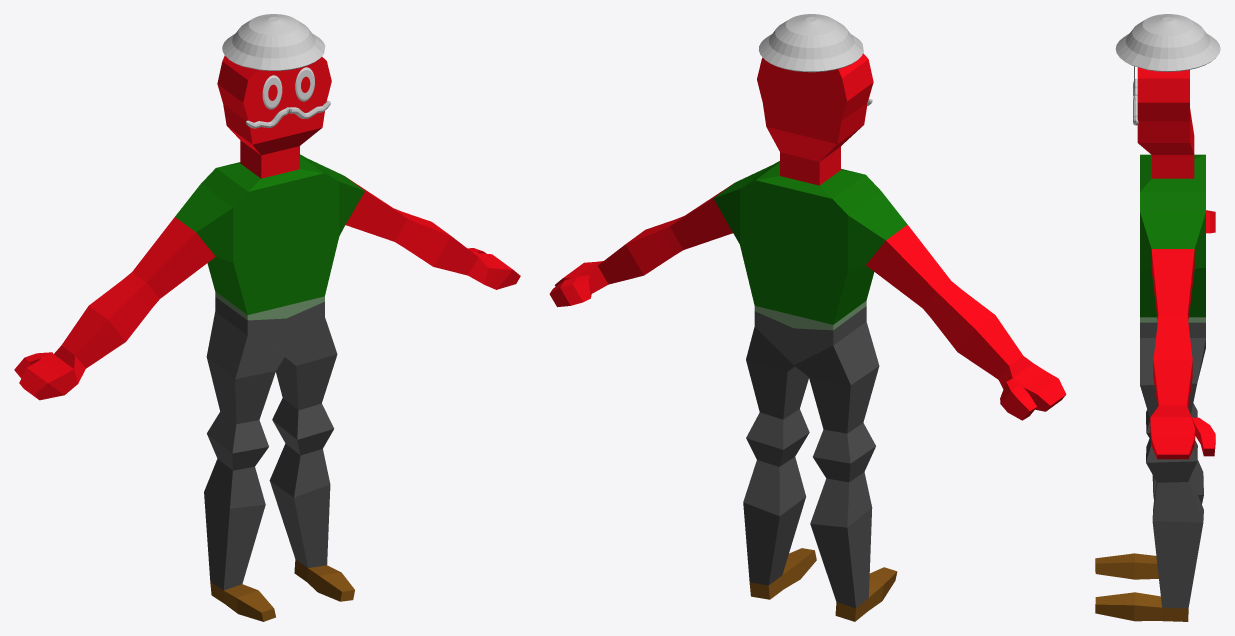
File: rogério.fbx
3 views of the same model, side by side, from view 1: azimuth 30°, elevation 25°; view 2: azimuth 150°, elevation 25°; view 3: azimuth 270°, elevation 25° (orthographic). The views are drawn at different scales.
Parts seen in each view (by area): view 1: Cube, Circle.001, Circle; view 2: Cube, Circle.001; view 3: Cube, Circle.001, Circle.002.
Boxes of the visible parts, left/top/right/bottom form: Cube: left=14, top=55, right=520, bottom=621; Circle.001: left=222, top=14, right=325, bottom=70; Circle: left=262, top=67, right=314, bottom=109; Cube: left=549, top=53, right=1066, bottom=621; Circle.001: left=758, top=14, right=863, bottom=72; Cube: left=1095, top=67, right=1215, bottom=621; Circle.001: left=1115, top=14, right=1220, bottom=71; Circle.002: left=1132, top=79, right=1138, bottom=125.
Bounding box in the file's own units: 917 × 1029 × 202.
